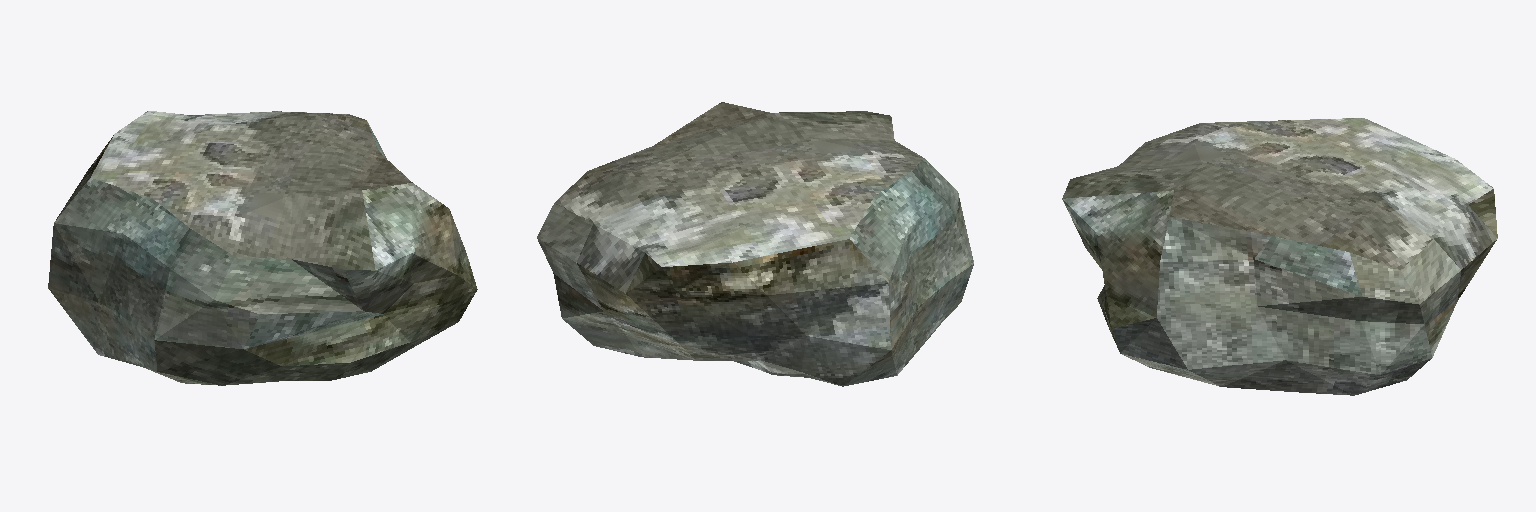
3 views of the same model, side by side, from view 1: azimuth 30°, elevation 25°; view 2: azimuth 150°, elevation 25°; view 3: azimuth 270°, elevation 25° (orthographic).
Parts seen in each view (by area): view 1: Cube.001; view 2: Cube.001; view 3: Cube.001.
Boxes of the visible parts, box(x1,y1,x2,y2) form: Cube.001: box(48, 111, 477, 385); Cube.001: box(537, 102, 973, 386); Cube.001: box(1062, 118, 1497, 395).
Bounding box in the file's own units: 3.18 × 1.68 × 3.63.
1 materials, 1 textured.